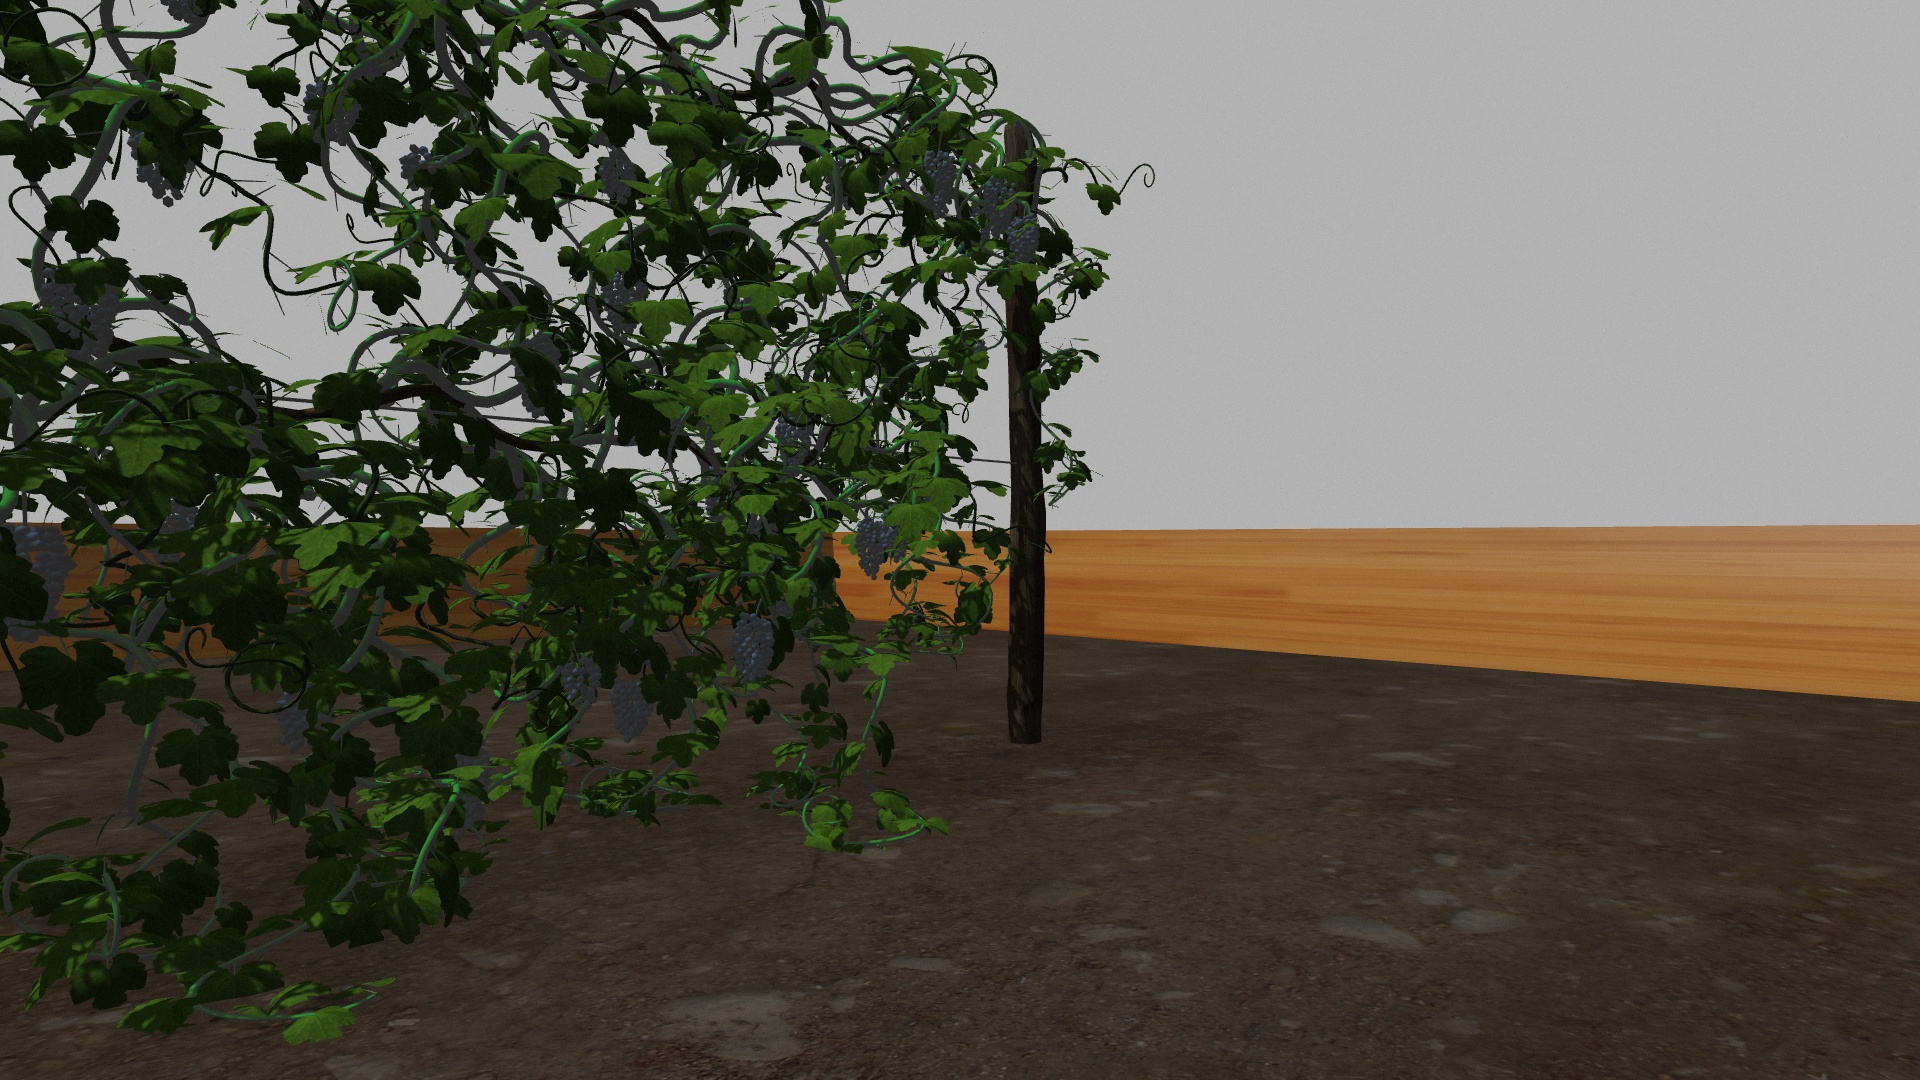grape: (8, 524, 74, 645), (41, 262, 123, 357), (272, 690, 334, 752), (303, 80, 361, 146), (600, 264, 649, 342), (451, 750, 495, 829), (733, 613, 775, 688), (611, 676, 657, 745), (851, 518, 897, 582), (916, 148, 957, 218), (398, 140, 440, 196), (593, 150, 638, 203), (560, 655, 600, 713), (775, 413, 814, 472), (981, 173, 1017, 235), (1009, 214, 1042, 270)
